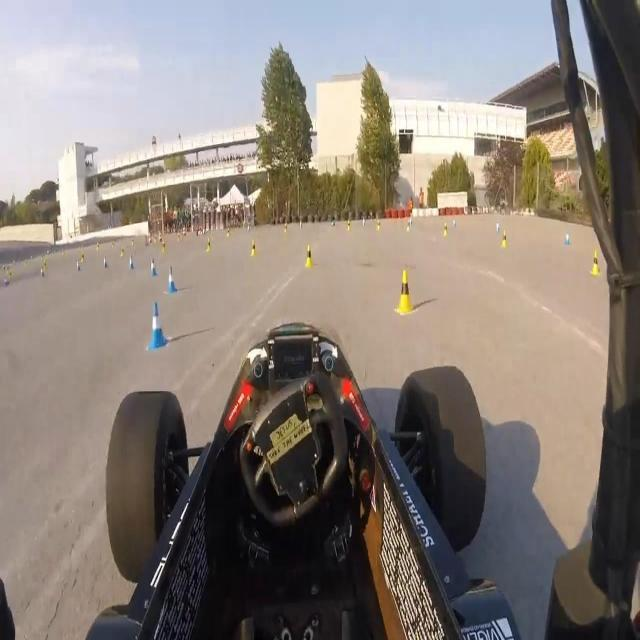blue_cone: (148, 303, 166, 351), (166, 266, 177, 294), (494, 217, 501, 238), (564, 229, 570, 249), (150, 258, 156, 276), (128, 254, 134, 271), (76, 259, 80, 273), (104, 257, 108, 266)
yellow_cone: (398, 269, 412, 315), (589, 245, 600, 278), (499, 226, 509, 252), (306, 244, 313, 269), (250, 239, 256, 257), (161, 238, 167, 256), (206, 236, 212, 252), (443, 220, 448, 236), (80, 247, 85, 262), (120, 244, 125, 258)
